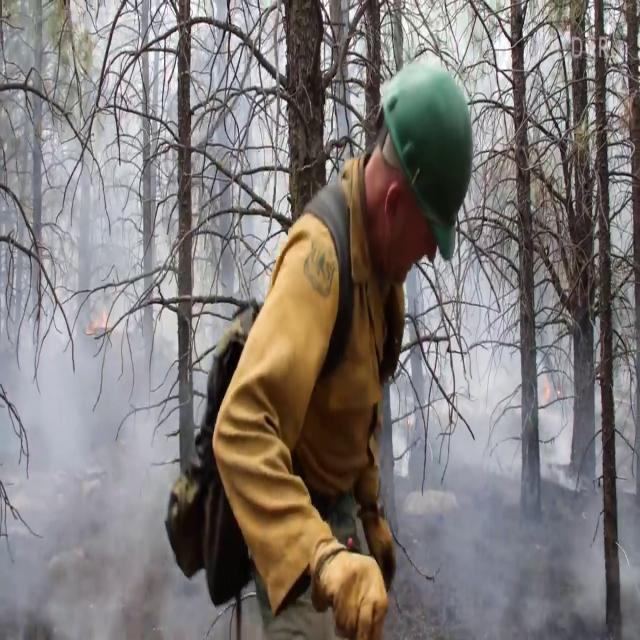Smoke: (0, 31, 206, 640), (372, 308, 640, 640)
